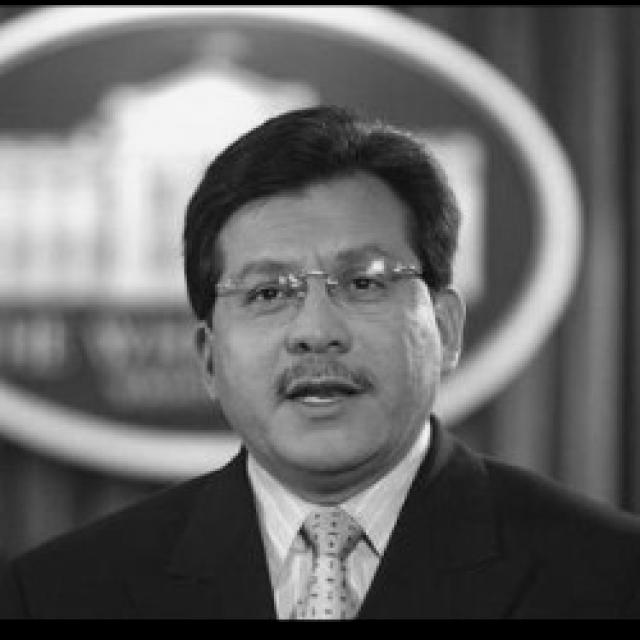real: (196, 170, 456, 484), (224, 268, 409, 313)
